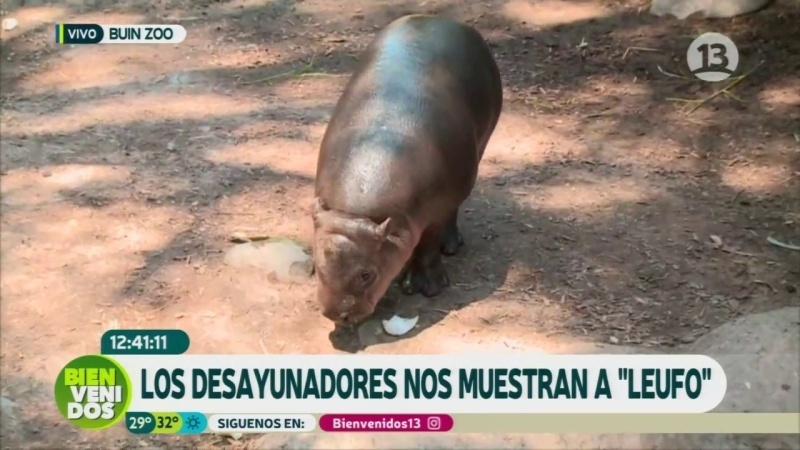hipopotamo: (286, 12, 520, 347)
